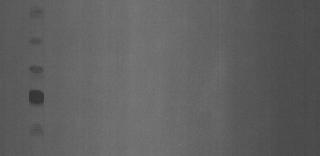oil spot: (26, 85, 50, 110), (26, 4, 48, 20), (28, 122, 46, 138), (28, 34, 46, 48), (29, 63, 47, 77)
